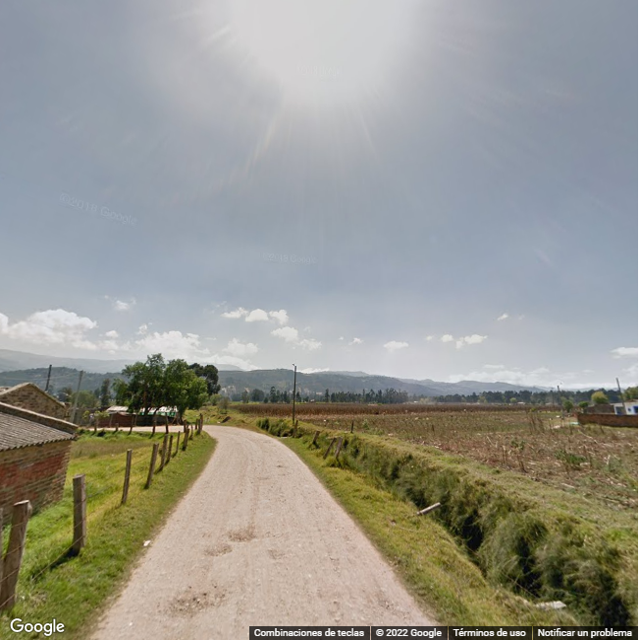D00: (325, 543, 350, 589)
D40: (161, 592, 228, 622), (199, 540, 234, 564)
